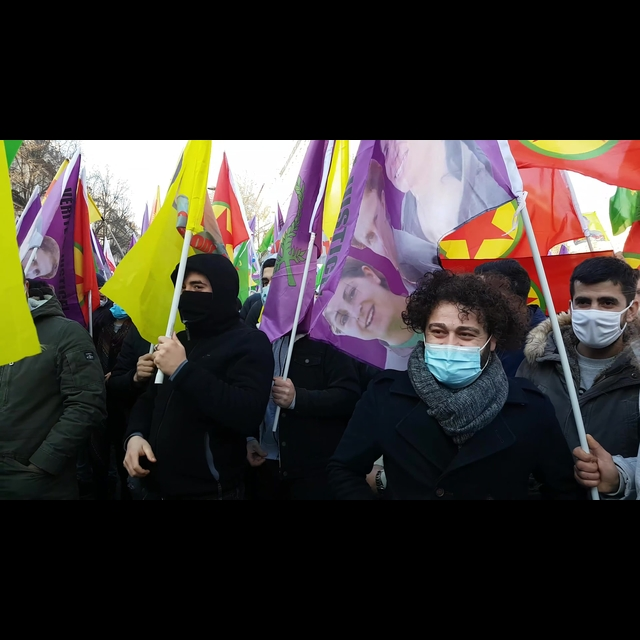PKK: (438, 199, 530, 259)
